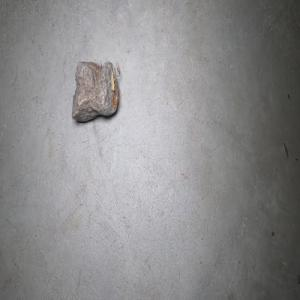Rock: (71, 60, 119, 122)
